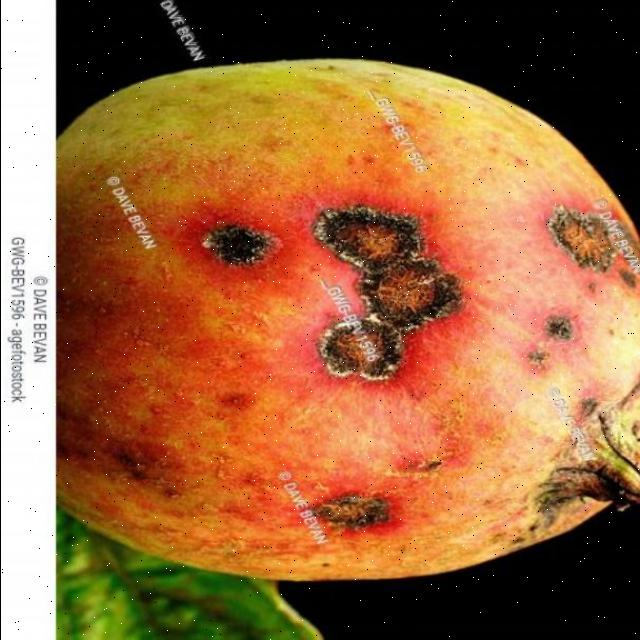SCAB: (55, 50, 632, 600)
